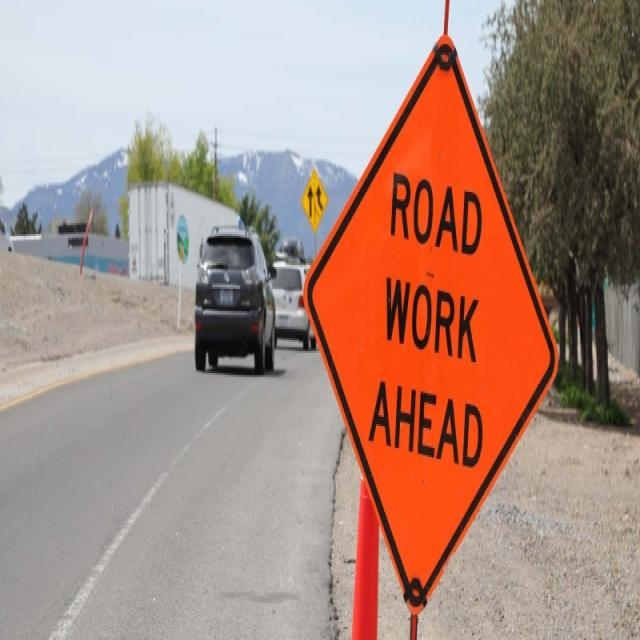road-sign: (298, 28, 568, 630)
